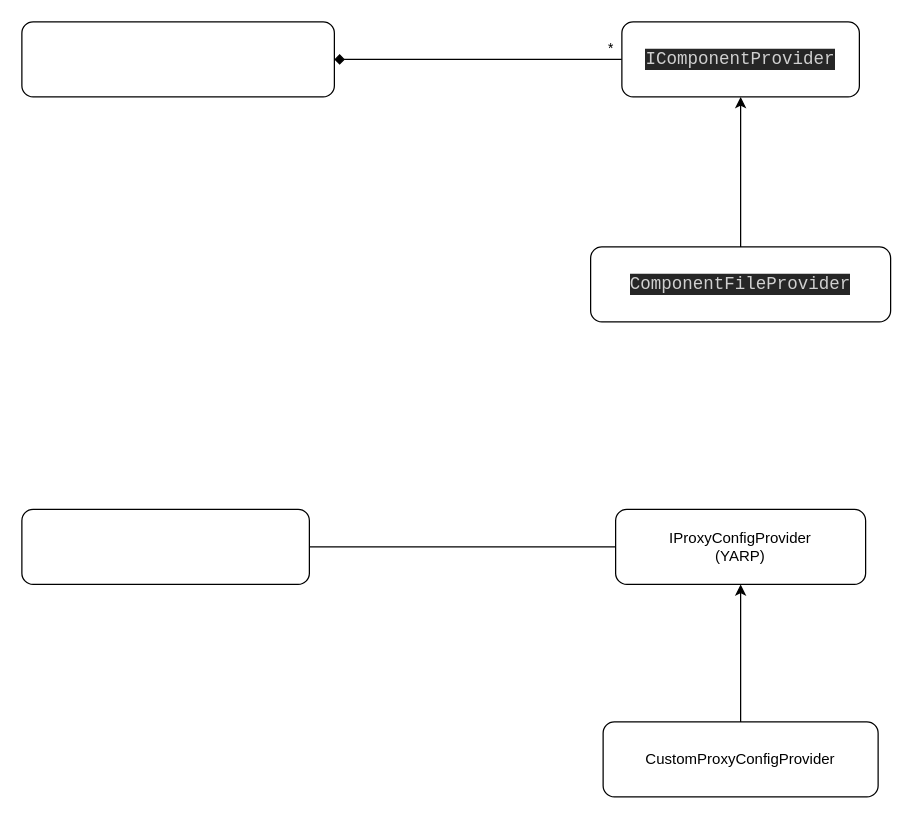
Some shapes in this 913 by 819 pixel diagram are drawn without their labels. Each missing label, with the centre of its shape:
ComponentsMappingService: (177,59)
Reverse Proxy (YARP): (165,546)
